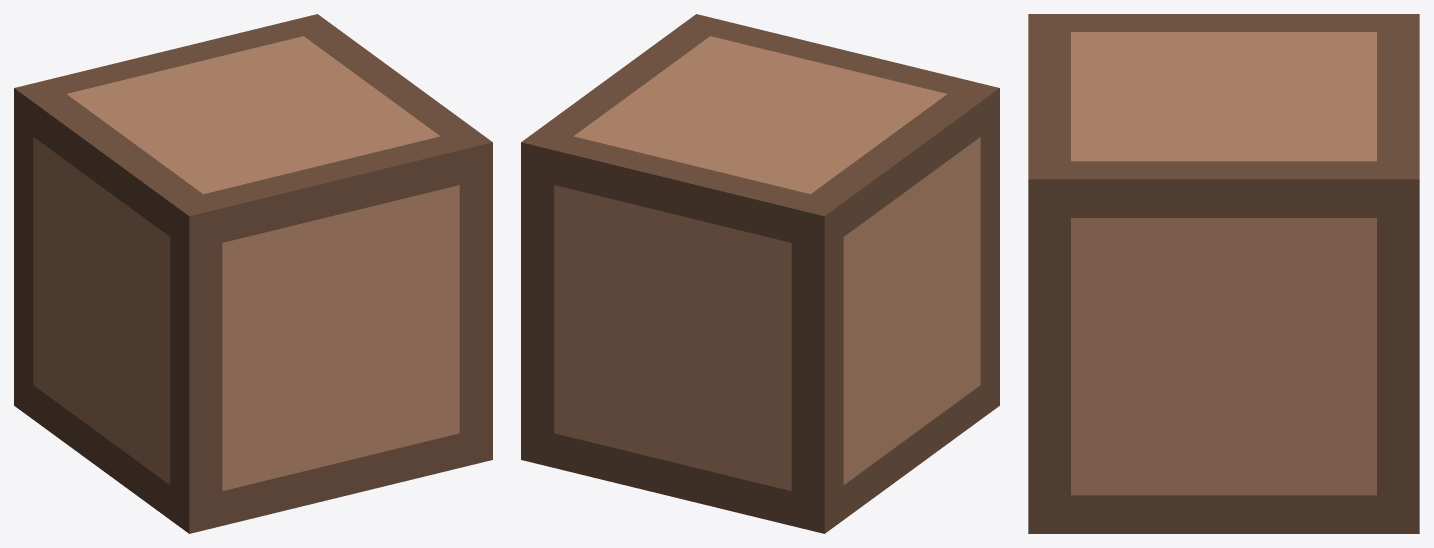
3 views of the same model, side by side, from view 1: azimuth 30°, elevation 25°; view 2: azimuth 150°, elevation 25°; view 3: azimuth 270°, elevation 25° (orthographic). The views are drawn at different scales.
Visible parts, largest first — view 1: MX_01; view 2: MX_01; view 3: MX_01.
Boxes of the visible parts, x1=… form: MX_01: x1=14, y1=14, x2=492, y2=533; MX_01: x1=521, y1=14, x2=999, y2=533; MX_01: x1=1028, y1=14, x2=1419, y2=533.
Size of the model in its own units: 0.4 by 0.4 by 0.4.
